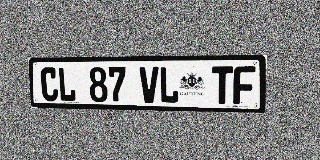7: (107, 67, 126, 103)
8: (89, 67, 108, 102)
C: (40, 67, 59, 101)
F: (233, 66, 255, 105)
L: (159, 66, 179, 103), (58, 67, 76, 102)
T: (212, 66, 233, 104)
V: (139, 67, 159, 103)
